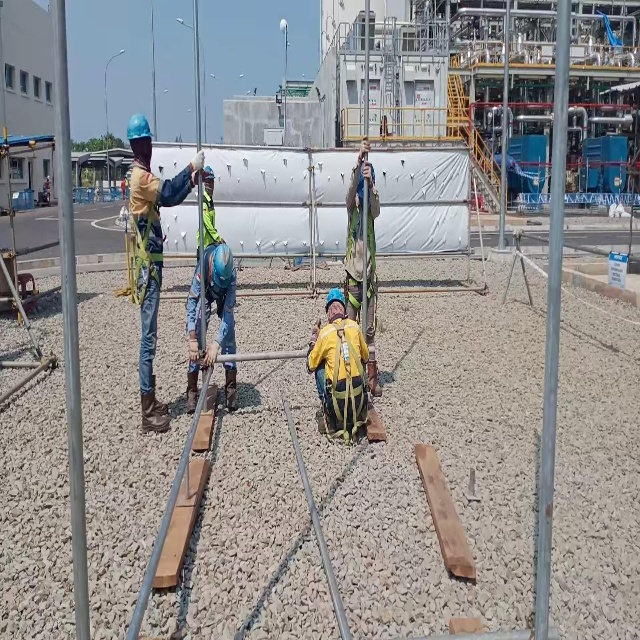Arnes_seguridad: (322, 317, 371, 439), (125, 200, 166, 305), (344, 207, 379, 313)
